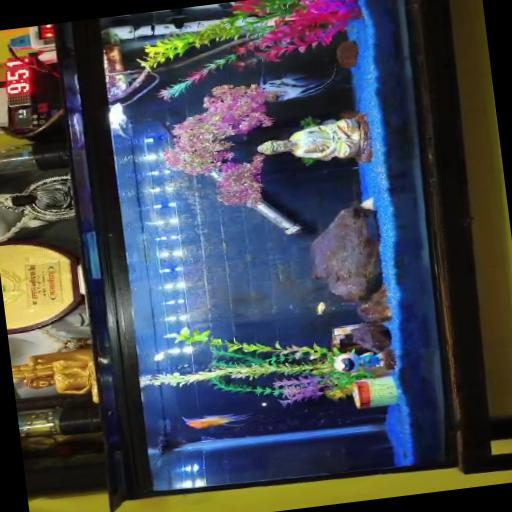Fish: (261, 67, 336, 100), (183, 413, 254, 428), (109, 102, 132, 136), (317, 301, 326, 314)
